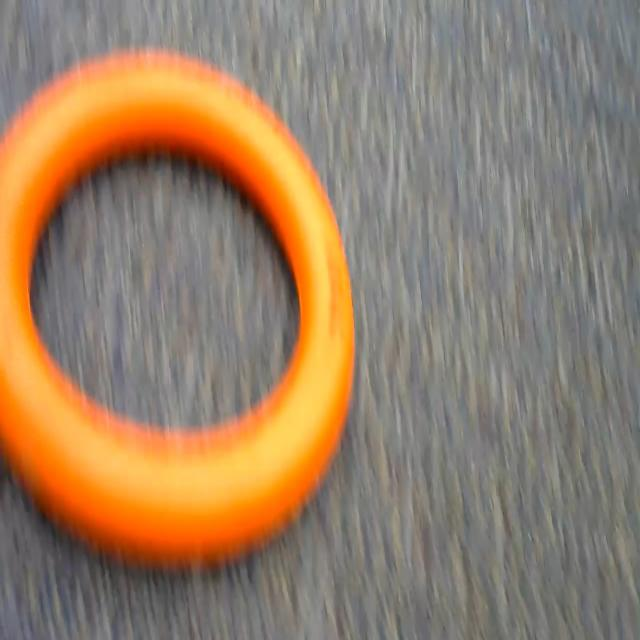note: (2, 34, 366, 578)
